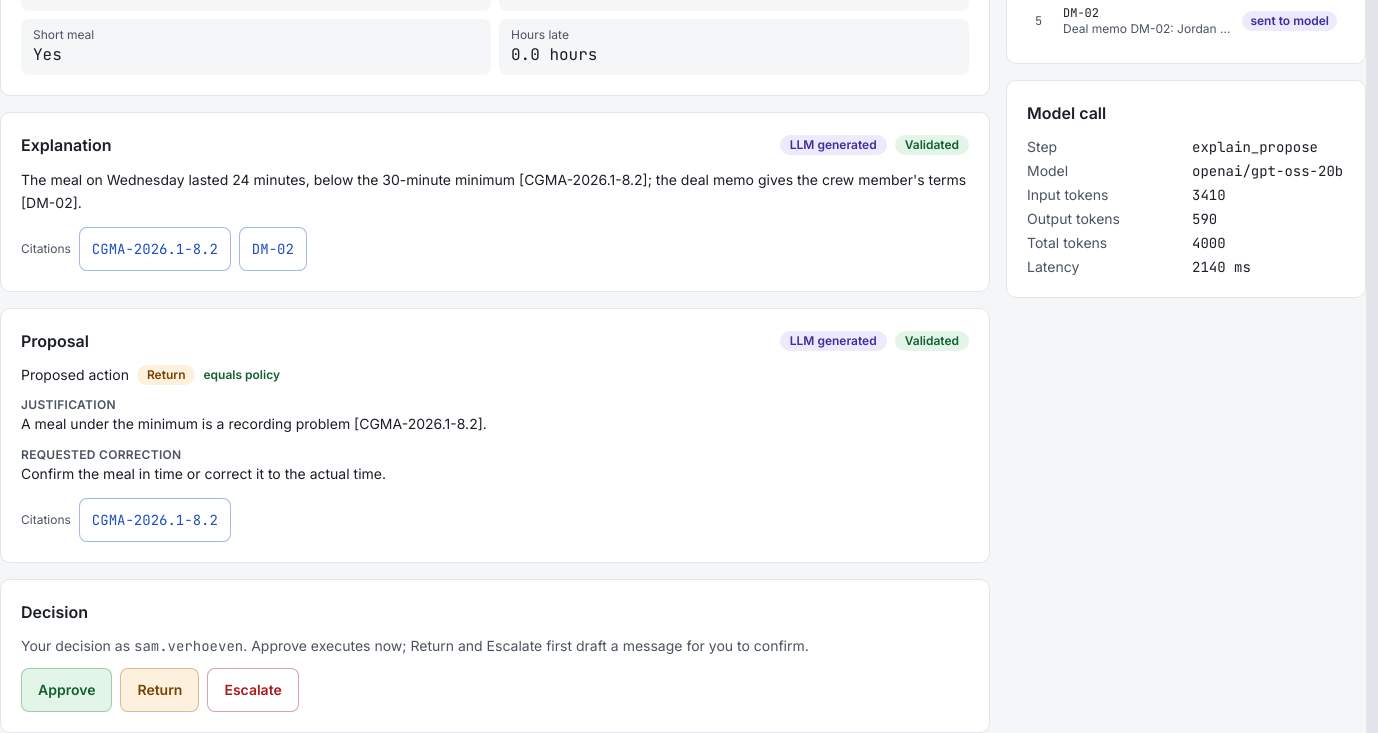
Test: decision › escalate shows the escalation progress and goes to the message step
(page scrolled)
Click the button "Escalate": (253, 690) [207, 668, 299, 712]
(page scrolled)
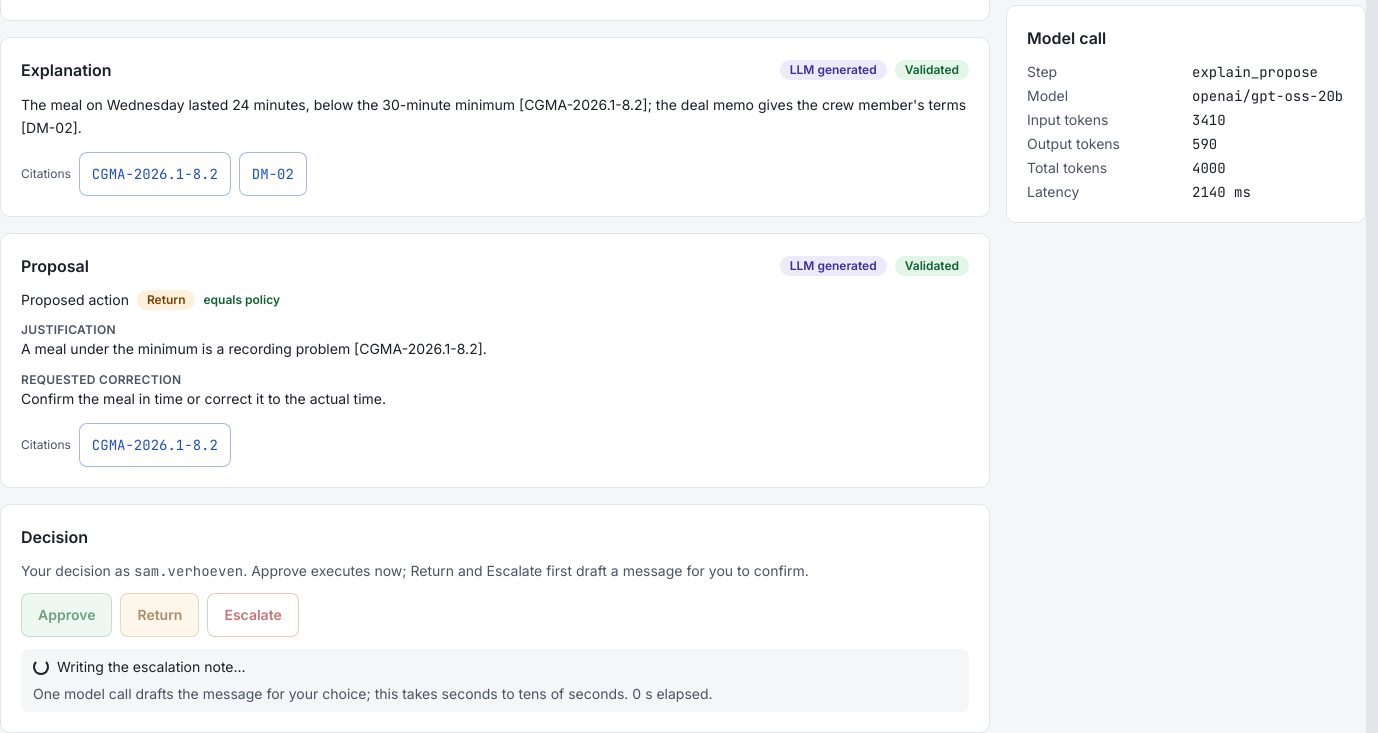
Now the text "Writing the escalation note..." is shown, box [57, 657, 246, 677]
